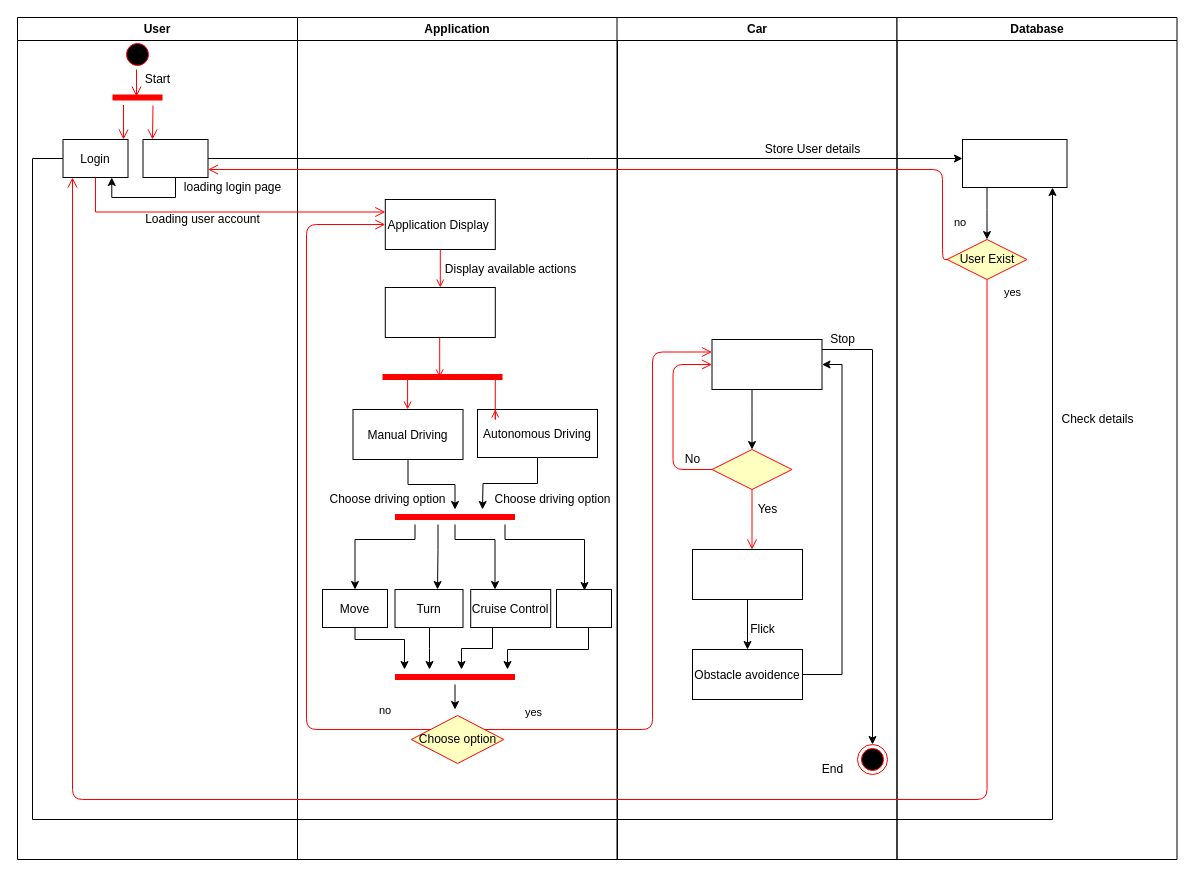
Image size: 1195x877. Some labels were removed from this diagram. Here are the shapes that lost their labels. From the top down, the centre of each, then its label:
(175,158): Register
(1014,163): User details
(439,312): Action Options
(766,364): Car navigation
(751,469): Obstacle
(747,574): Light Sensors
(584,608): Camera
